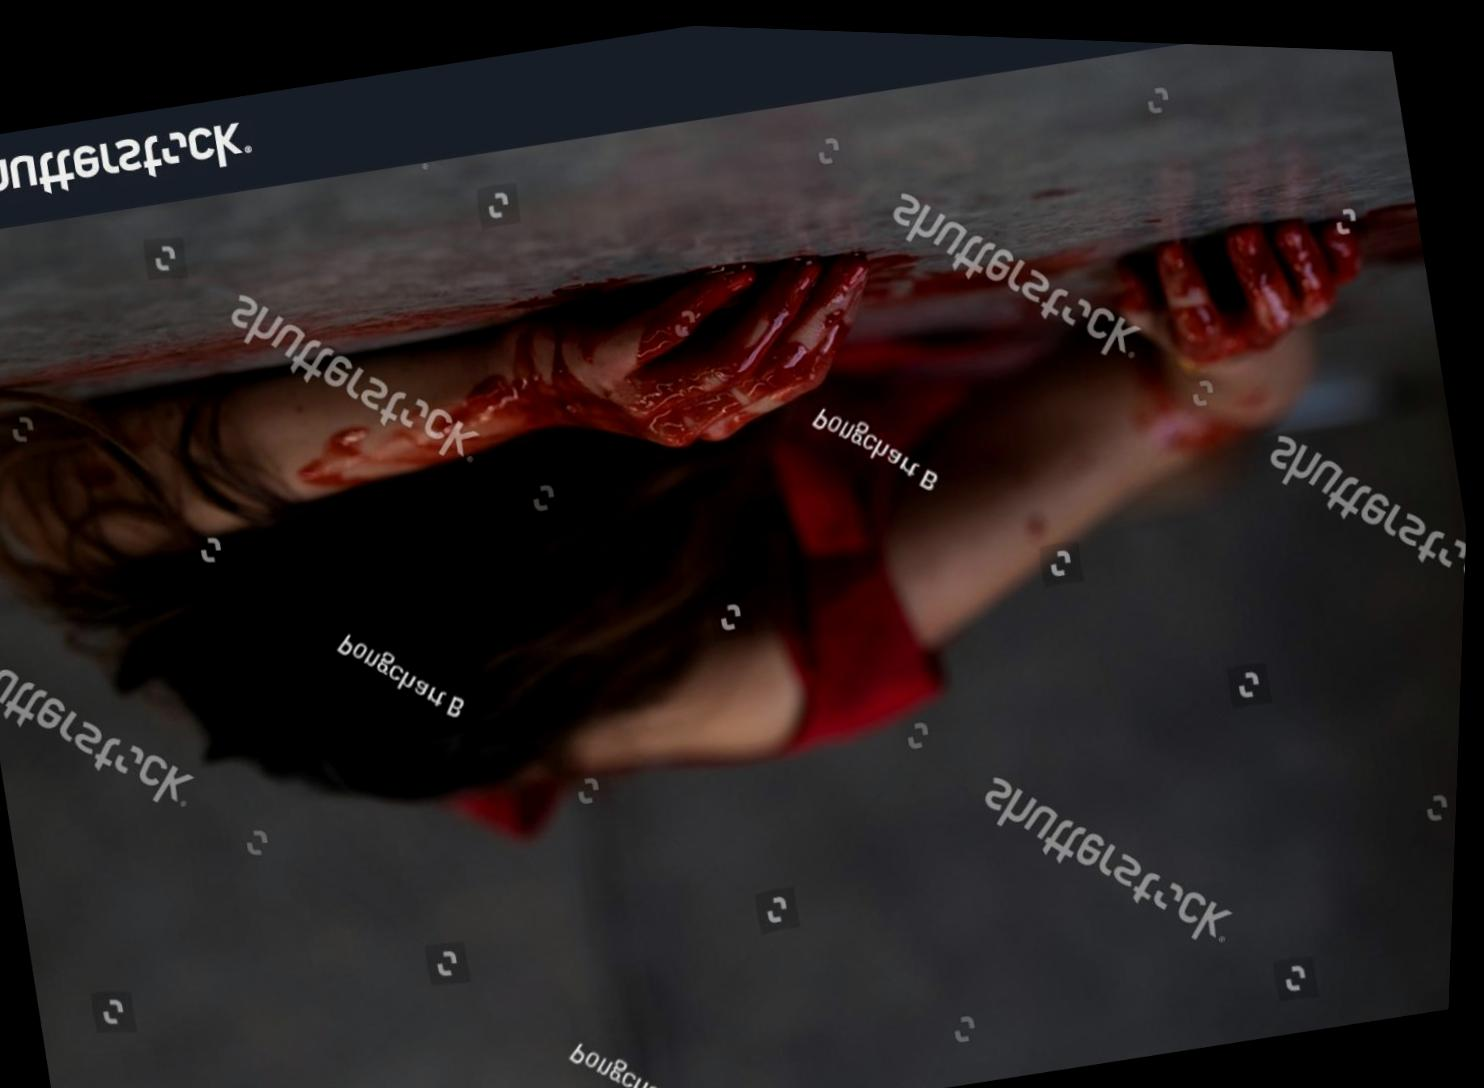Fire: (355, 225, 942, 460), (1121, 207, 1364, 356), (290, 265, 672, 340), (2, 333, 272, 388), (674, 232, 824, 272), (1363, 190, 1426, 251), (308, 424, 371, 481)
